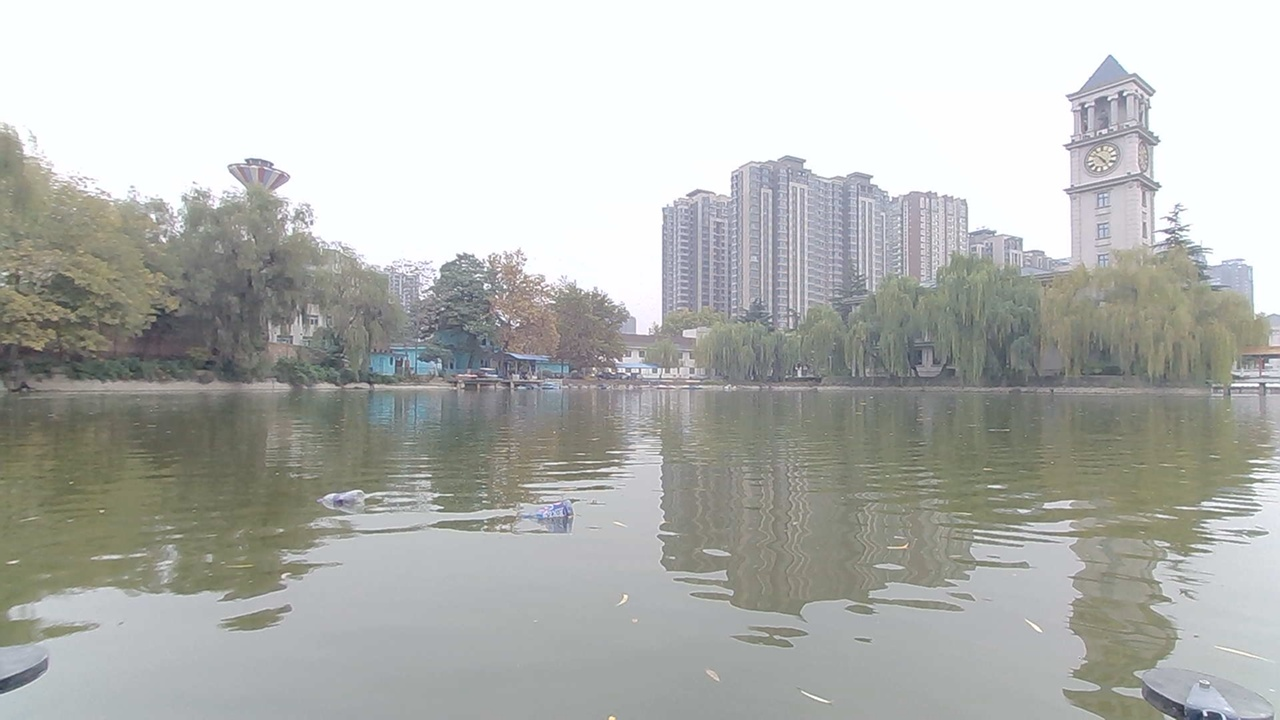bottle: (328, 489, 367, 515), (537, 509, 570, 526)
